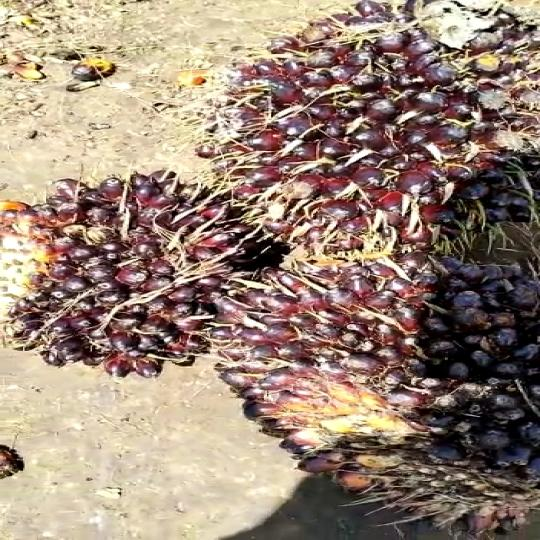mentah: (209, 245, 540, 534), (188, 1, 540, 243), (0, 159, 268, 378)
